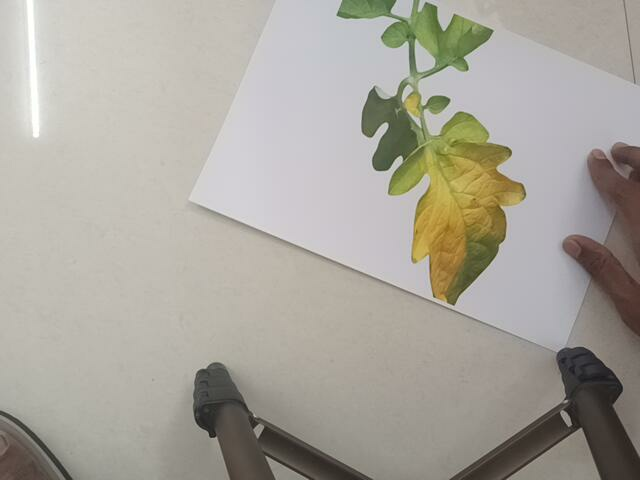Tomamto_Yellow_Disease: (321, 2, 532, 311)
